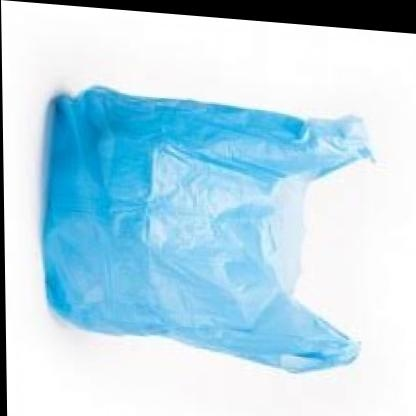trash: (43, 87, 370, 371)
